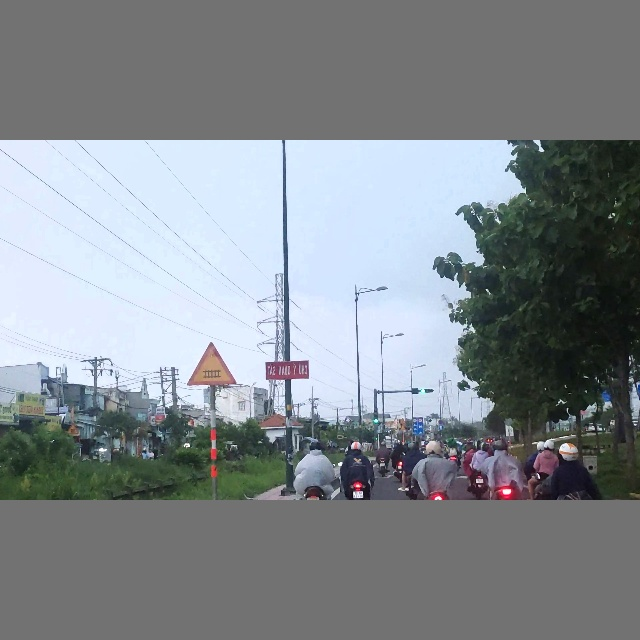I.407a: (438, 425, 444, 430)
W.210: (186, 341, 237, 387)
